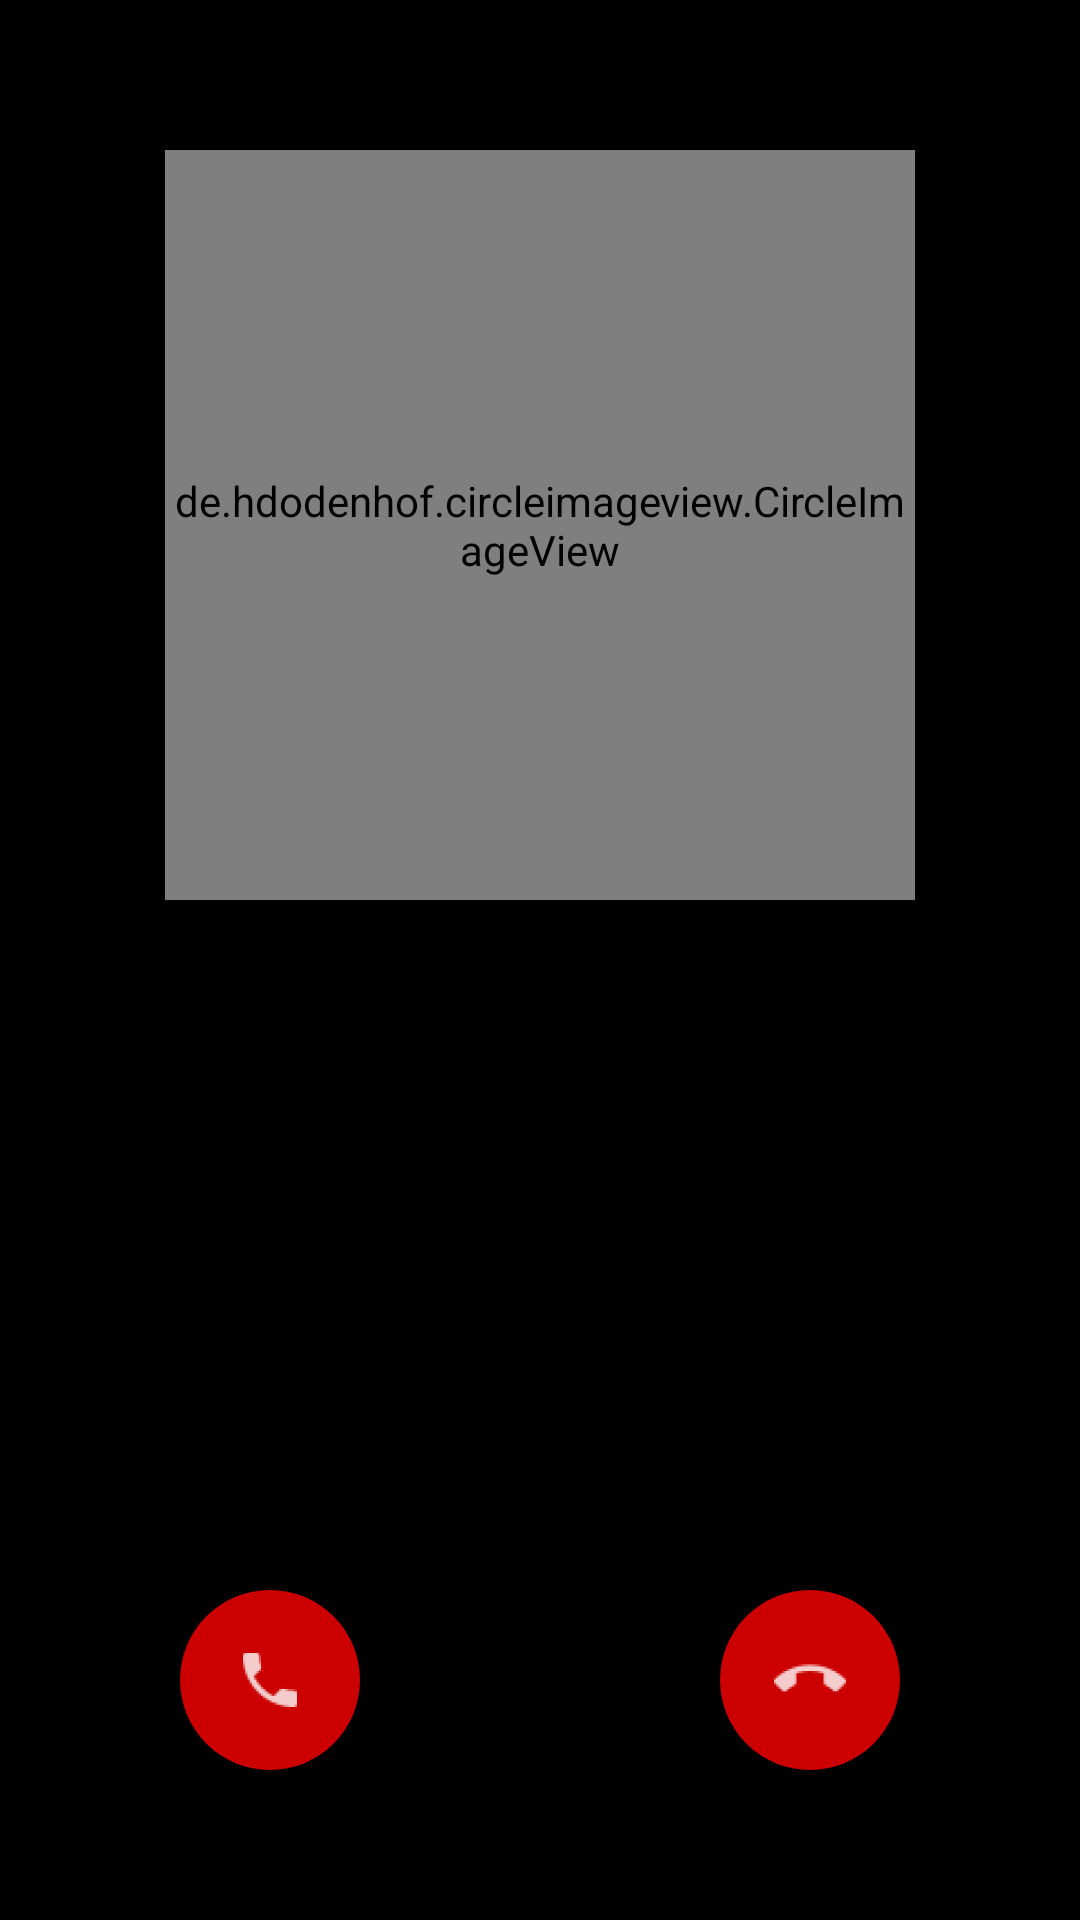

Where icons sit on this 1080px x 1920px app screen, as (x1, y1, x2, y2):
hangup phone: (720, 1590, 900, 1770)
phone: (180, 1590, 360, 1770)
